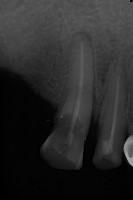Furcation Involvement: (71, 31, 93, 47)
